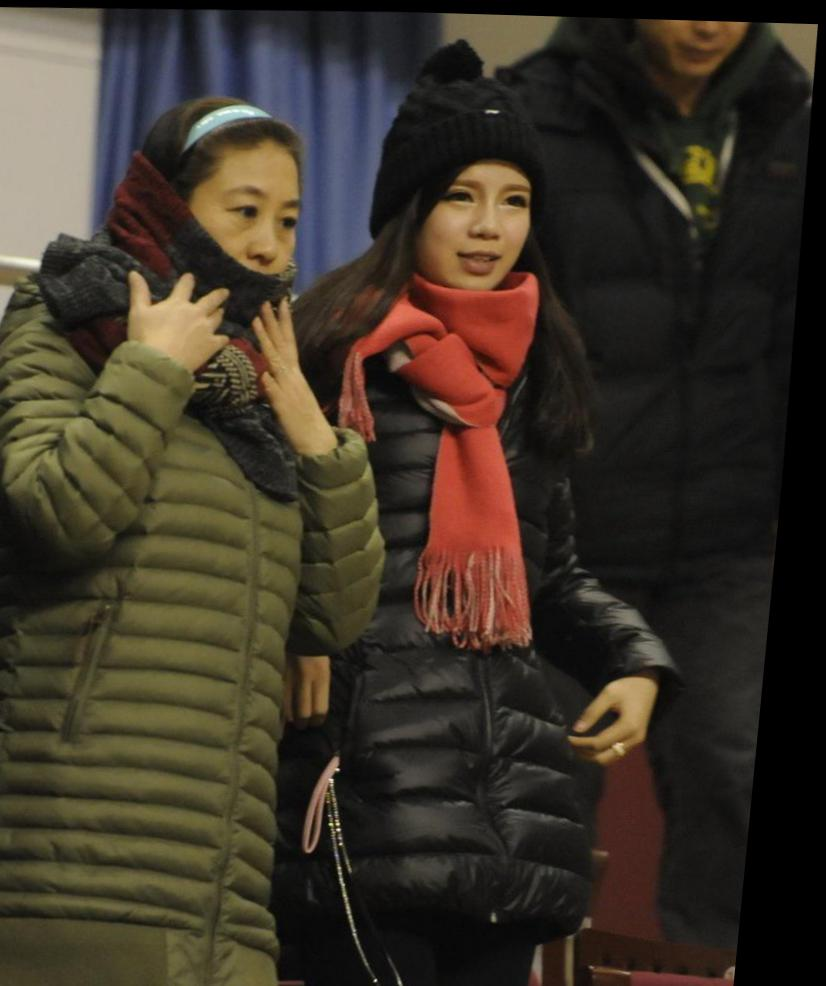NONE: (425, 167, 536, 283), (639, 16, 758, 76)
WRONG: (189, 166, 322, 293)
